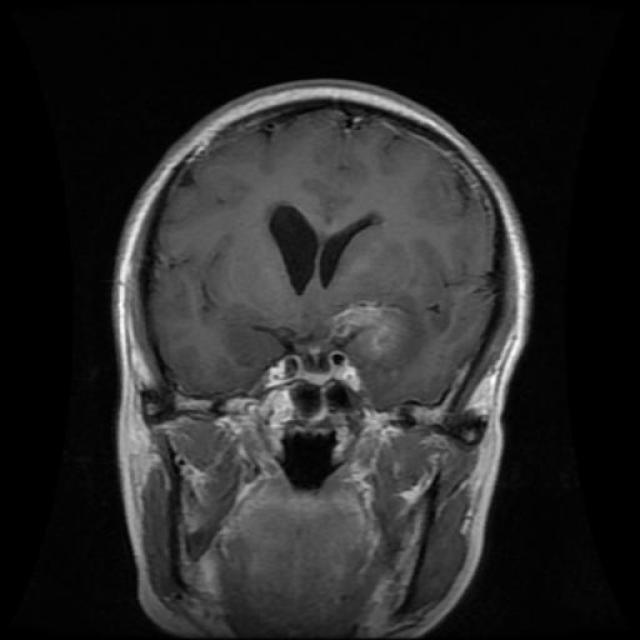glioma: (317, 290, 453, 384)
